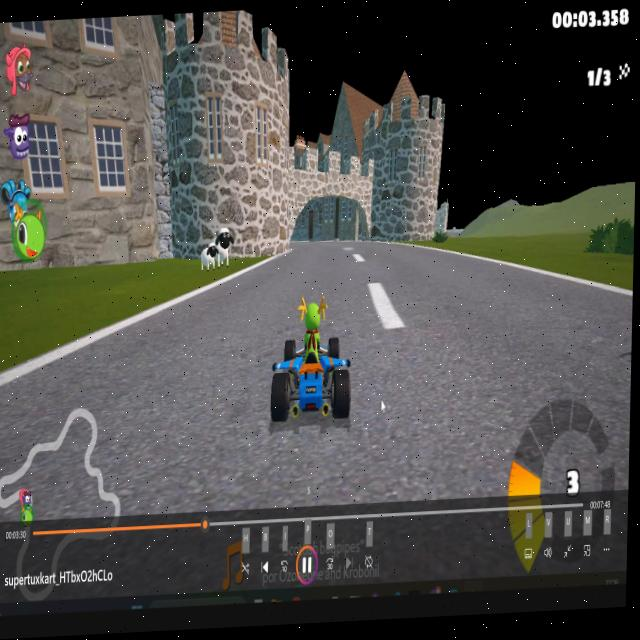player_kart: (267, 292, 356, 433)
track: (352, 274, 633, 512), (0, 379, 266, 513), (147, 316, 267, 383), (264, 430, 355, 506), (289, 235, 376, 291), (417, 247, 482, 288), (377, 235, 418, 285), (207, 282, 267, 316), (261, 260, 292, 294)
